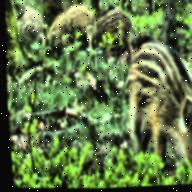boar: (115, 31, 192, 187)
